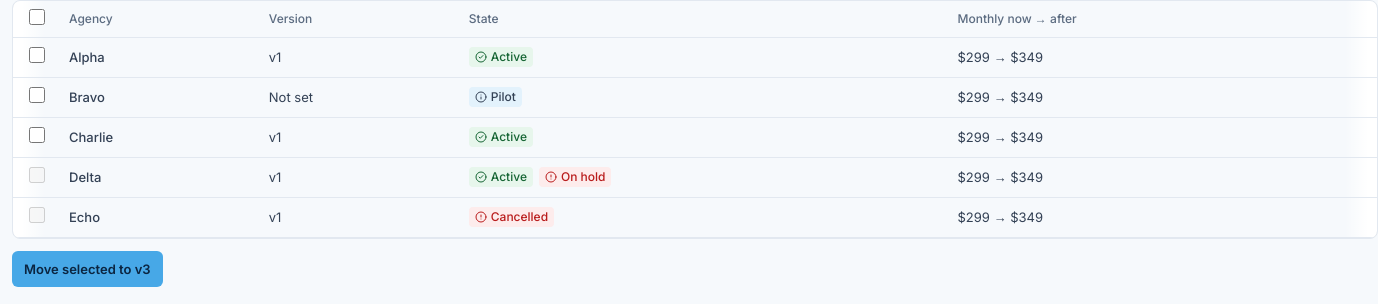
it: PlanAgencies › a cancelled row is disabled with its state label; select-all skips it
Expected: the checkbox named "Select Echo" is disabled, x1=29 y1=207 x2=45 y2=223
Expected: the text "Cancelled" is shown, x1=469 y1=207 x2=554 y2=227
Click the checkbox named "Select all agencies" at (37,17), box x1=29 y1=9 x2=45 y2=25
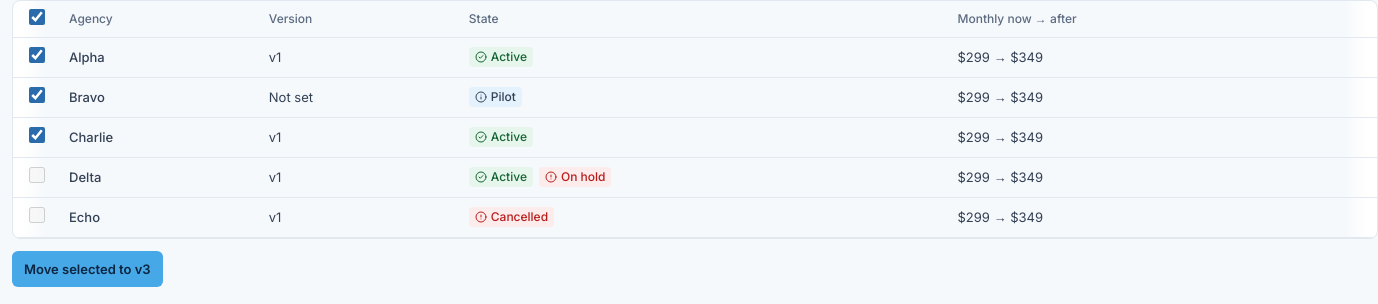
Expected: the checkbox named "Select Echo" is not checked, x1=29 y1=207 x2=45 y2=223
Now the checkbox named "Select Alpha" is checked, box x1=29 y1=47 x2=45 y2=63
